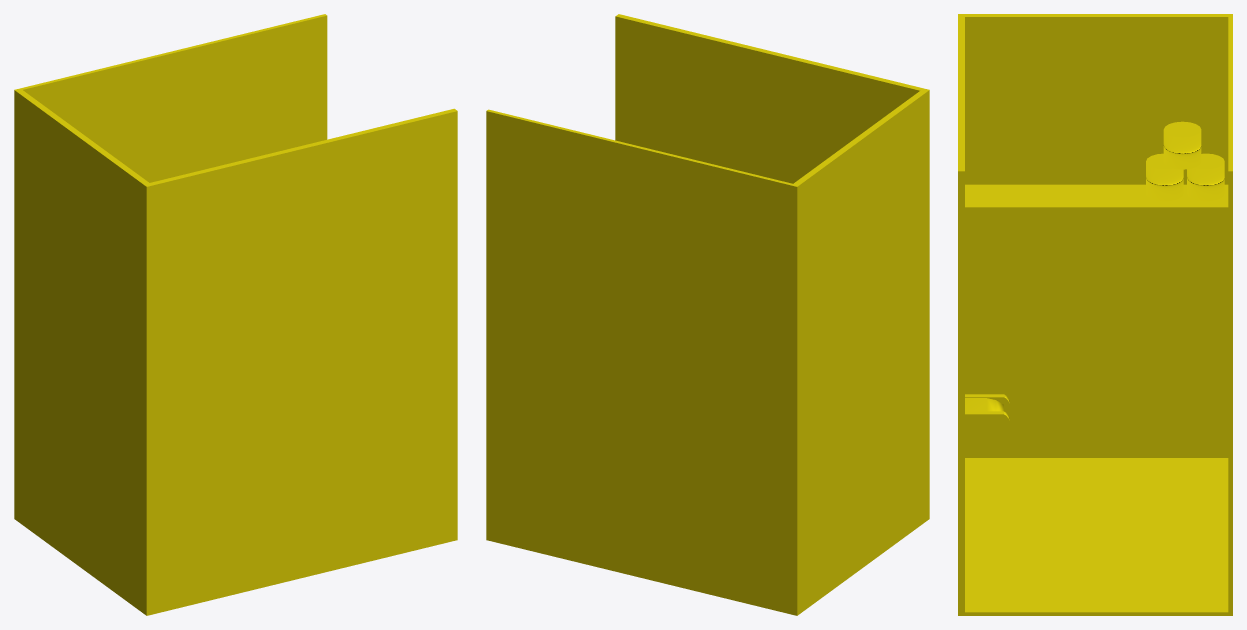
Rendered from bathroom.fbx.
The picture shows the model from 3 angles, left to right: view 1: azimuth 30°, elevation 25°; view 2: azimuth 150°, elevation 25°; view 3: azimuth 270°, elevation 25°; orthographic projection. The views are drawn at different scales.
Parts seen in each view (by area): view 1: bathroom; view 2: bathroom; view 3: bathroom.
Boxes of the visible parts, bbox=[...] form: bathroom: bbox=[14, 14, 457, 615]; bathroom: bbox=[486, 14, 929, 615]; bathroom: bbox=[958, 14, 1232, 615].
Bounding box in the file's own units: 562 × 741 × 415.
